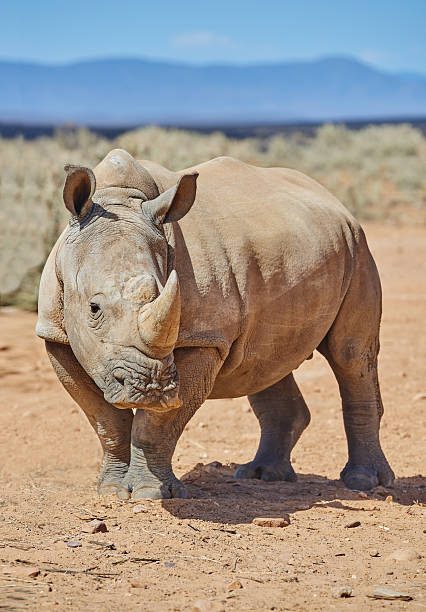rhino: (33, 147, 223, 427)
